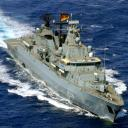Fragata: (3, 5, 127, 127)
